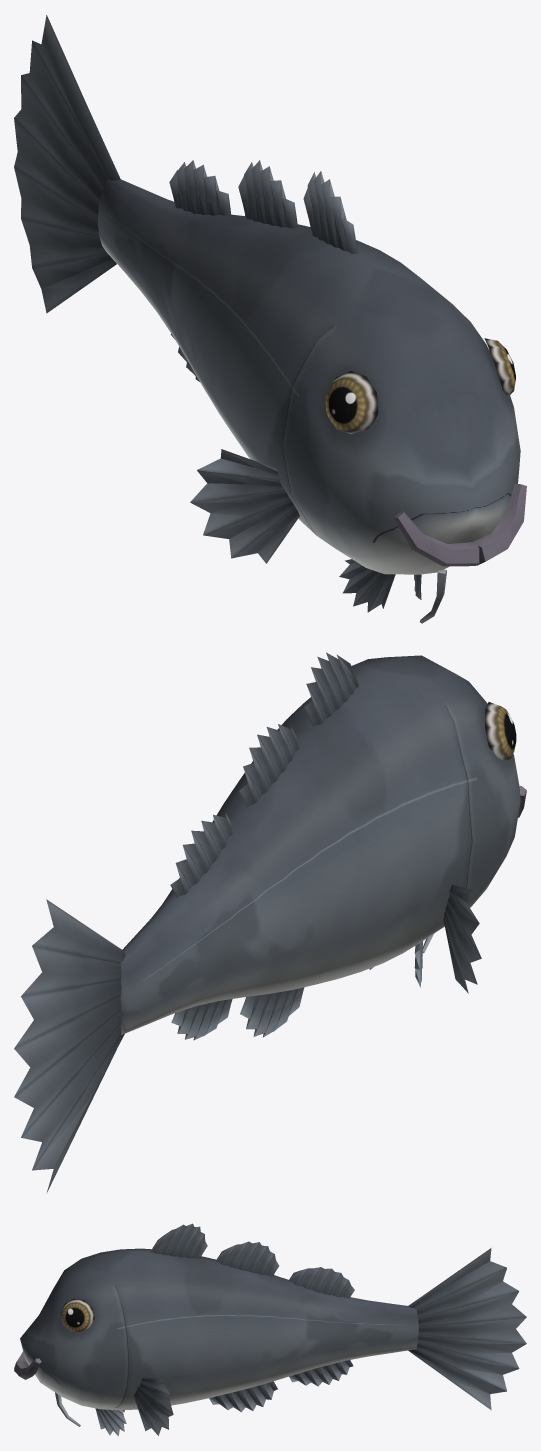
Rendered from slate-pout.glb.
3 views of the same model, one above another, from view 1: azimuth 30°, elevation 25°; view 2: azimuth 150°, elevation 25°; view 3: azimuth 270°, elevation 25° (orthographic). The views are drawn at different scales.
Parts seen in each view (by area): view 1: slate-pout; view 2: slate-pout; view 3: slate-pout.
Part boxes in pixels (<box>): slate-pout: <box>14,15,526,623</box>; slate-pout: <box>14,652,526,1193</box>; slate-pout: <box>14,1223,526,1435</box>.
Bounding box in the file's own units: 0.3566 × 0.4435 × 1.
Materials: 1 (1 with a texture image).
